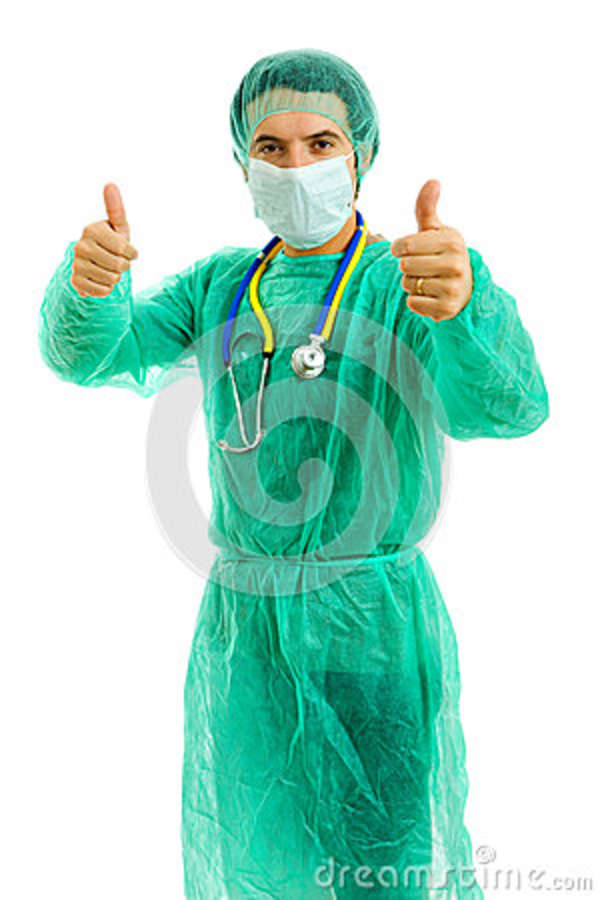mask: (248, 153, 359, 253)
